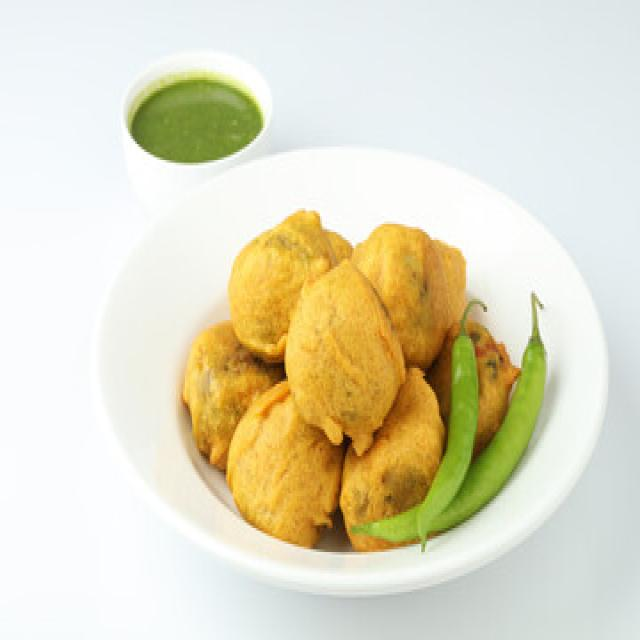BONDA: (180, 211, 546, 563)
GREEN CHUTNEY: (123, 51, 272, 169)
